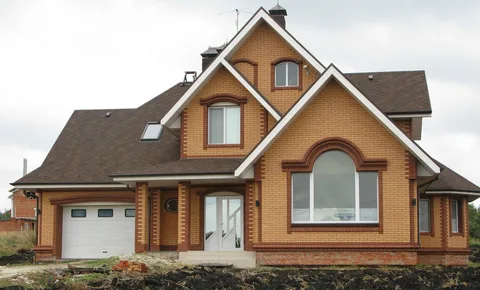private_hause: (40, 7, 434, 265)
